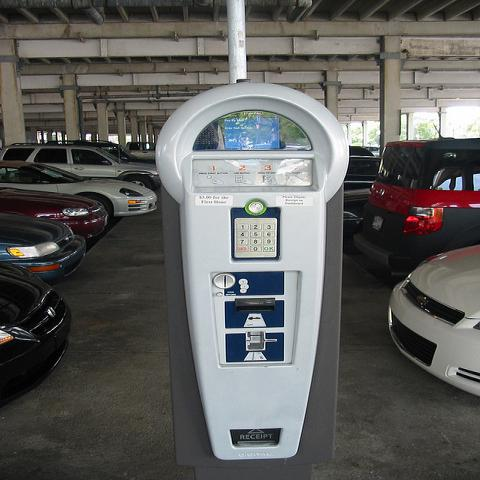car: (349, 136, 479, 277), (388, 242, 479, 398), (0, 266, 79, 396), (0, 160, 160, 216), (3, 138, 162, 185), (1, 209, 86, 280), (0, 186, 108, 237), (341, 146, 379, 194), (341, 188, 368, 240), (125, 142, 156, 160)
